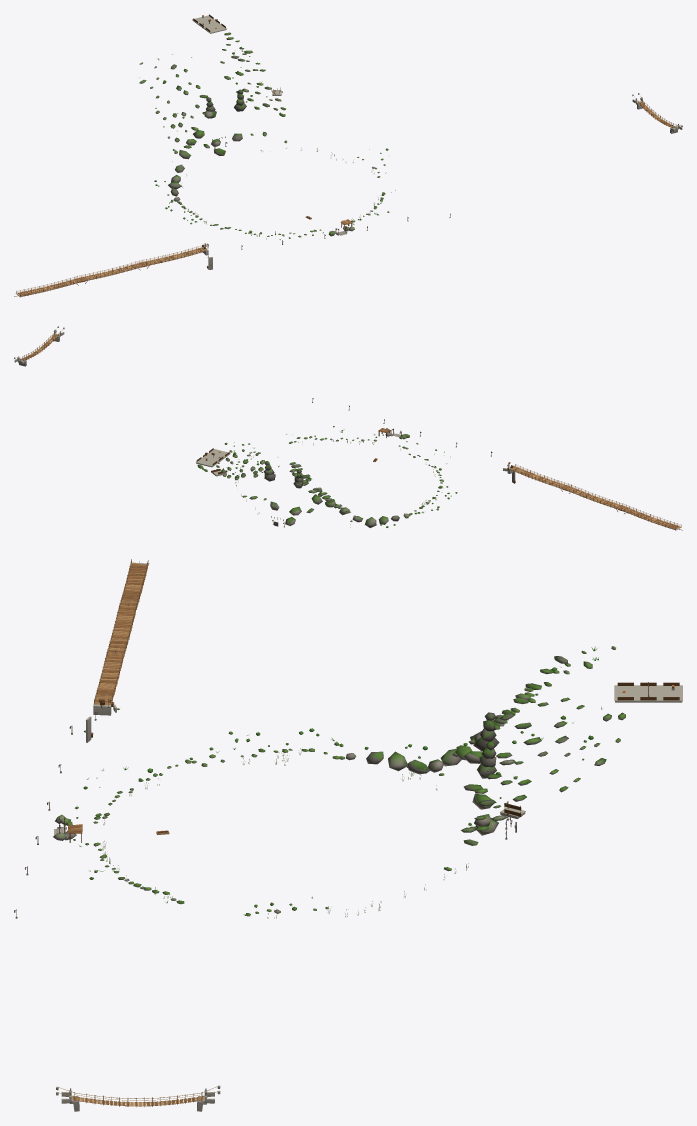
File: falls_low.glb
3 renders of one model, top to bottom at view 1: azimuth 30°, elevation 25°; view 2: azimuth 150°, elevation 25°; view 3: azimuth 270°, elevation 25°, orthographic. The views are drawn at different scales.
Parts seen in each view (by area): view 1: falls_area_LOD1, falls_hb_LOD1; view 2: falls_area_LOD1, falls_hb_LOD1, falls_d3_LOD1; view 3: falls_area_LOD1, falls_hb_LOD1, falls_d3_LOD1.
Part boxes in pixels (left/top/right/bottom): falls_area_LOD1: left=139, top=14, right=450, bottom=268; falls_hb_LOD1: left=14, top=244, right=212, bottom=297; falls_area_LOD1: left=196, top=398, right=515, bottom=527; falls_hb_LOD1: left=503, top=464, right=682, bottom=530; falls_d3_LOD1: left=14, top=326, right=64, bottom=366; falls_area_LOD1: left=14, top=646, right=682, bottom=918; falls_hb_LOD1: left=84, top=559, right=149, bottom=742; falls_d3_LOD1: left=56, top=1085, right=220, bottom=1111.
Bounding box in the file's own units: 425 × 64.84 × 204.
